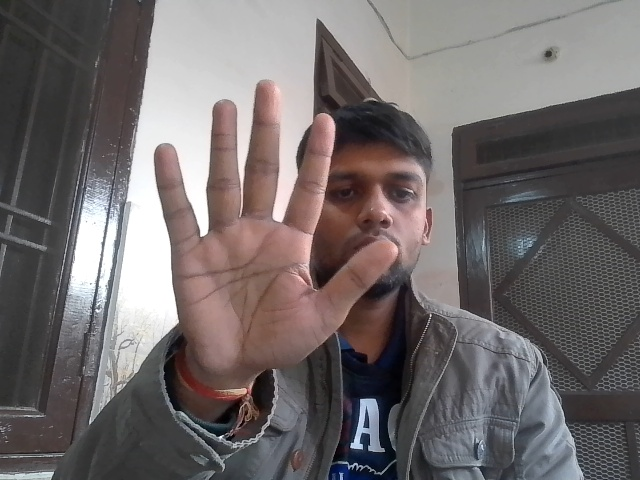Hello: (150, 72, 405, 381)
